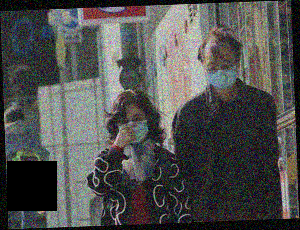with_mask: (116, 113, 150, 148), (203, 58, 239, 89)
